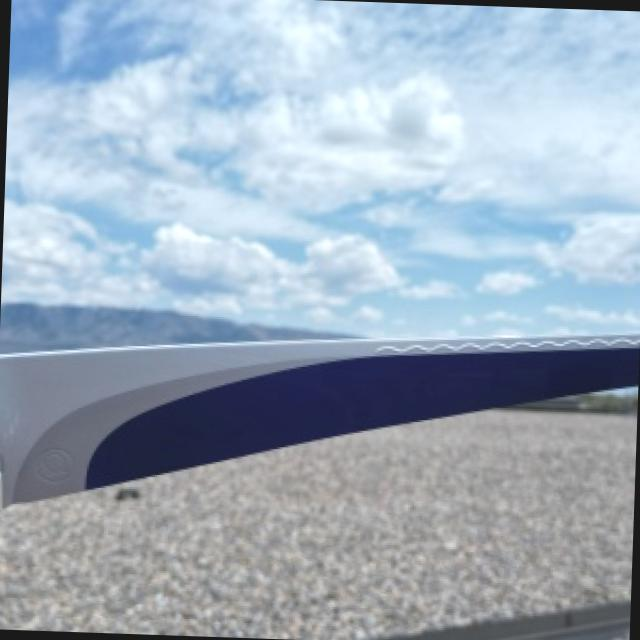healthy: (0, 333, 640, 501)
